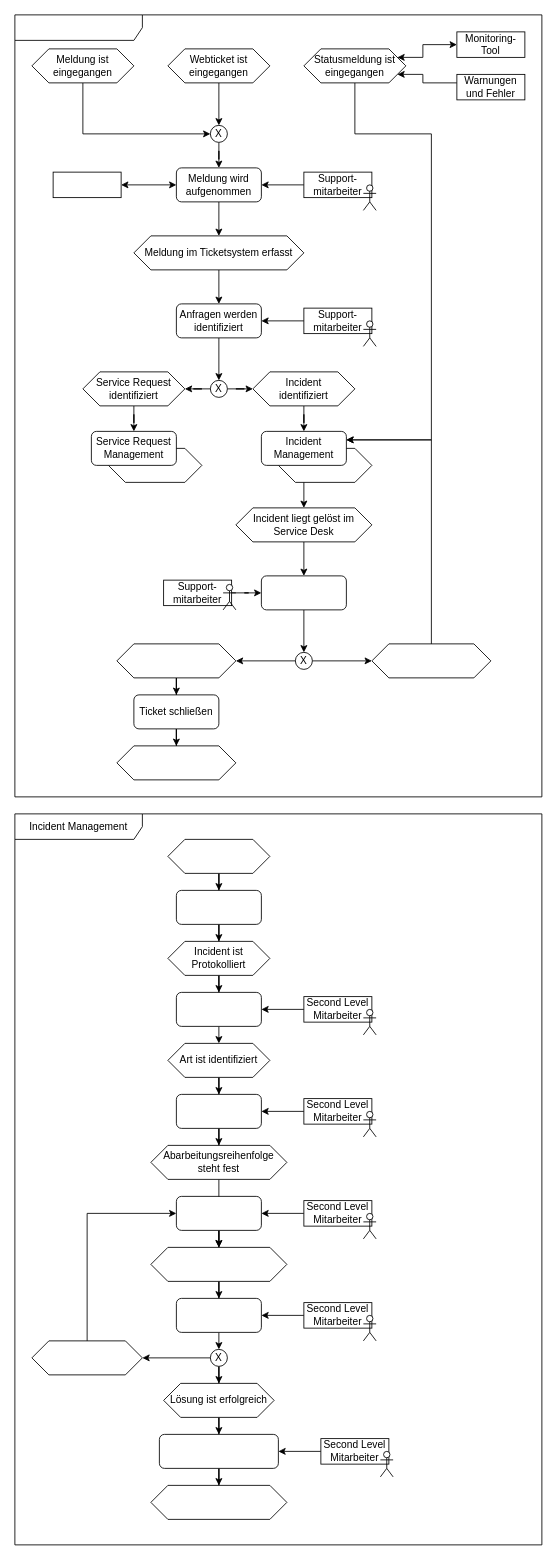
Image size: 557x1560. Some labels were removed from this diagram. The box of each missing label's shape, as (x1, y1, x2, y2) in pixels:
Art des Incidents indentifizieren: (176, 992, 261, 1026)
Diagnose ist erstellt: (150, 1247, 287, 1281)
First Level Support: (14, 14, 542, 797)
Incident ist eingegangen: (167, 839, 270, 873)
Incident liegt wieder im Service Desk: (150, 1485, 287, 1519)
Incident zurück an Service-Desk geben: (159, 1434, 278, 1468)
Lösung ist nicht erfolgreich: (31, 1340, 142, 1375)
Lösung testen: (176, 1298, 261, 1332)
Priorisierung durchführen: (176, 1094, 261, 1128)
Rücksprache mit Anwender halten: (261, 575, 346, 610)
Ticket ist gelöst: (116, 745, 236, 780)
Ticket ist nicht zur Zufriedenheit gelöst: (371, 643, 491, 678)
Ticket ist zur Zufriedenheit gelöst: (116, 643, 236, 678)
Ticketsystem: (52, 171, 121, 198)
Untersuchung durchführen: (176, 1196, 261, 1230)
Zeitstempel wird protokolliert: (176, 890, 261, 924)
